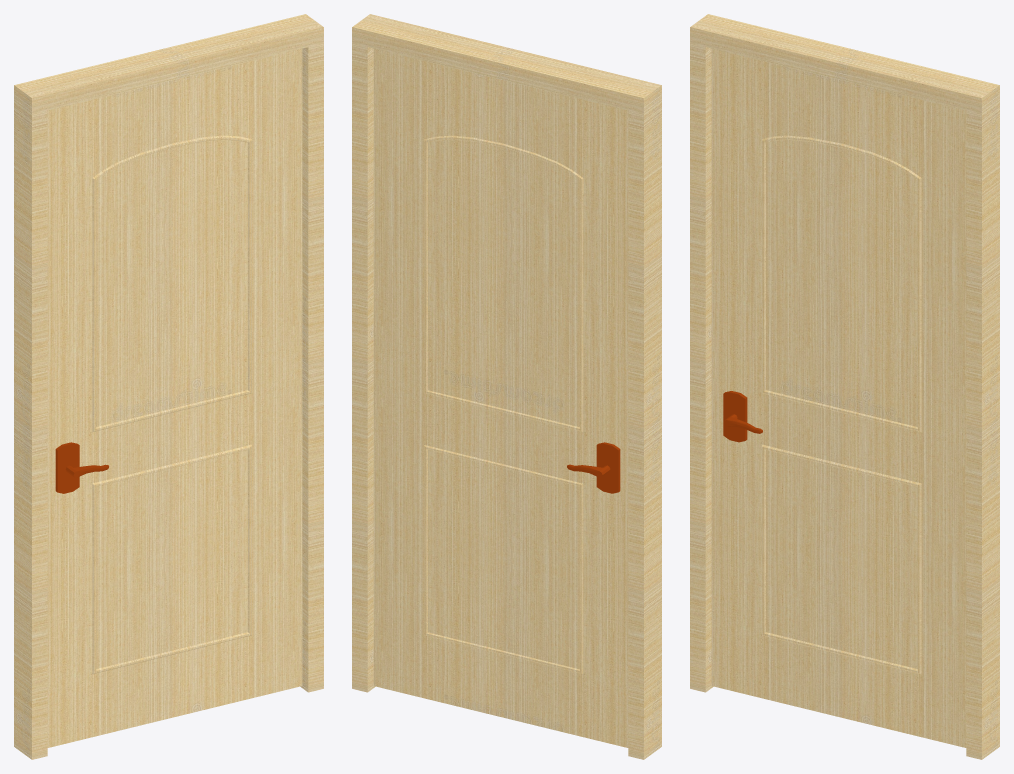
Rendered from door.glb.
3 renders of one model, left to right at view 1: azimuth 30°, elevation 25°; view 2: azimuth 150°, elevation 25°; view 3: azimuth 330°, elevation 25°, orthographic.
Visible parts, largest first — view 1: handle-main, frame, handle-base002; view 2: handle-main, frame, handle-base001; view 3: handle-main, frame, handle-base002.
Boxes of the visible parts, box(x1,y1,x2,y2) form: handle-main: box(47, 48, 302, 747); frame: box(14, 14, 323, 759); handle-base002: box(55, 442, 79, 493); handle-main: box(373, 48, 628, 747); frame: box(352, 14, 661, 759); handle-base001: box(596, 442, 620, 493); handle-main: box(711, 48, 966, 747); frame: box(690, 14, 999, 759); handle-base002: box(723, 391, 747, 442).
Size of the model in its own units: 0.94 by 2.04 by 0.144.
Materials: 2 (1 with a texture image).
